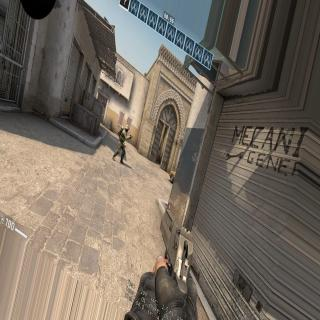CT-Body: (117, 123, 131, 158)
CT-Head: (124, 124, 130, 132)
